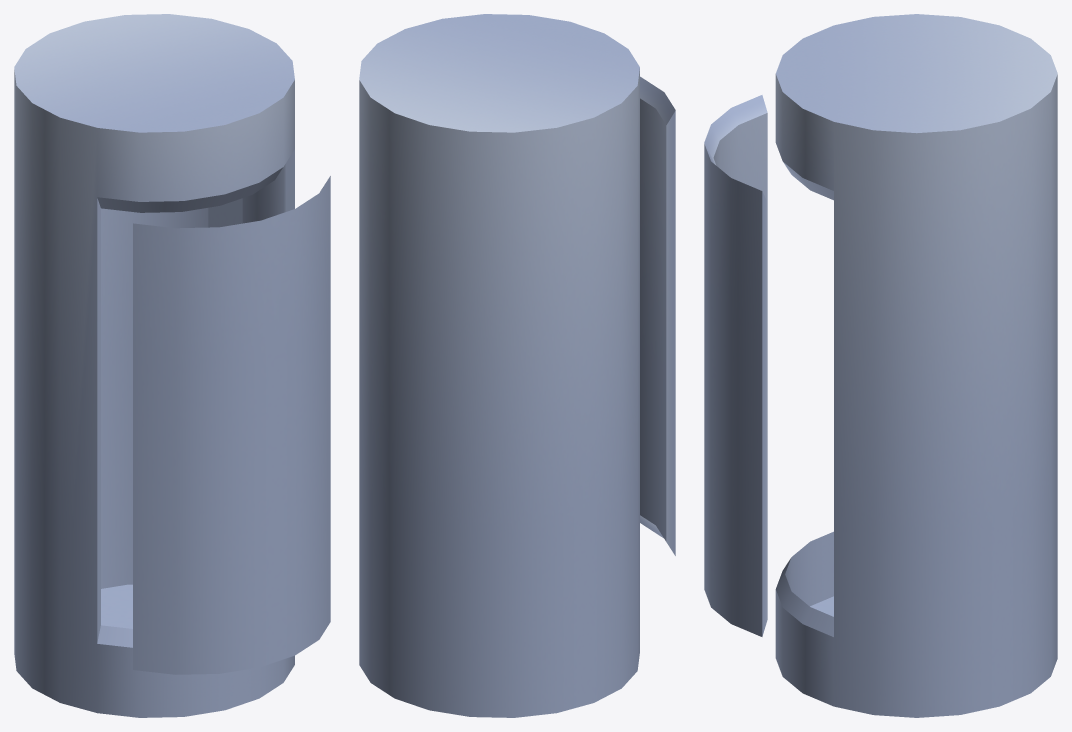
File: Elevator Shuttle.fbx
3 views of the same model, side by side, from view 1: azimuth 30°, elevation 25°; view 2: azimuth 150°, elevation 25°; view 3: azimuth 270°, elevation 25° (orthographic).
Visible parts, largest first — view 1: Elevator_Shuttle:Capsule_ElevatorCapsule_Chute, Elevator_Shuttle:Capsule_DoorCapsule_Elevator; view 2: Elevator_Shuttle:Capsule_ElevatorCapsule_Chute, Elevator_Shuttle:Capsule_DoorCapsule_Elevator; view 3: Elevator_Shuttle:Capsule_ElevatorCapsule_Chute, Elevator_Shuttle:Capsule_DoorCapsule_Elevator.
Boxes of the visible parts, left/top/right/bottom form: Elevator_Shuttle:Capsule_ElevatorCapsule_Chute: left=14, top=14, right=294, bottom=717; Elevator_Shuttle:Capsule_DoorCapsule_Elevator: left=133, top=176, right=330, bottom=674; Elevator_Shuttle:Capsule_ElevatorCapsule_Chute: left=359, top=14, right=639, bottom=717; Elevator_Shuttle:Capsule_DoorCapsule_Elevator: left=640, top=76, right=675, bottom=555; Elevator_Shuttle:Capsule_ElevatorCapsule_Chute: left=775, top=14, right=1057, bottom=717; Elevator_Shuttle:Capsule_DoorCapsule_Elevator: left=704, top=95, right=767, bottom=636.
Bounding box in the file's own units: 98.84 × 226 × 124.
